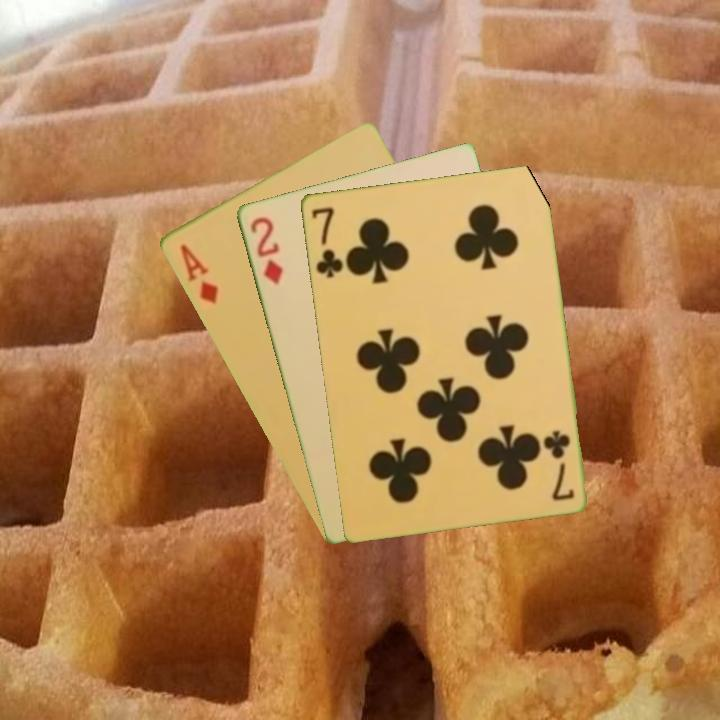2d: (246, 213, 285, 287)
7c: (307, 203, 346, 280), (541, 426, 577, 503)
Ad: (176, 240, 221, 307)
